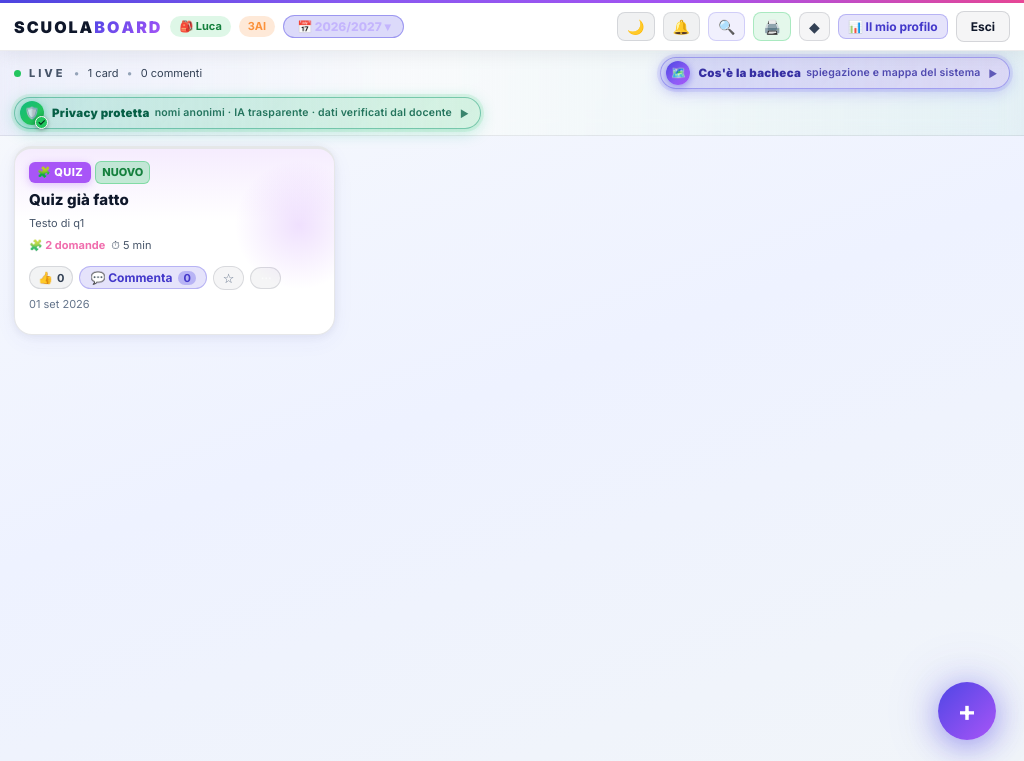
Test: Quiz interattivo (studente) › al refresh (riapertura card) lo studente vede il quiz già completato, non riparte da zero
This screenshot has width=1024, height=761.
Click the text "Quiz già fatto" at (79, 199), box [29,190,129,208]
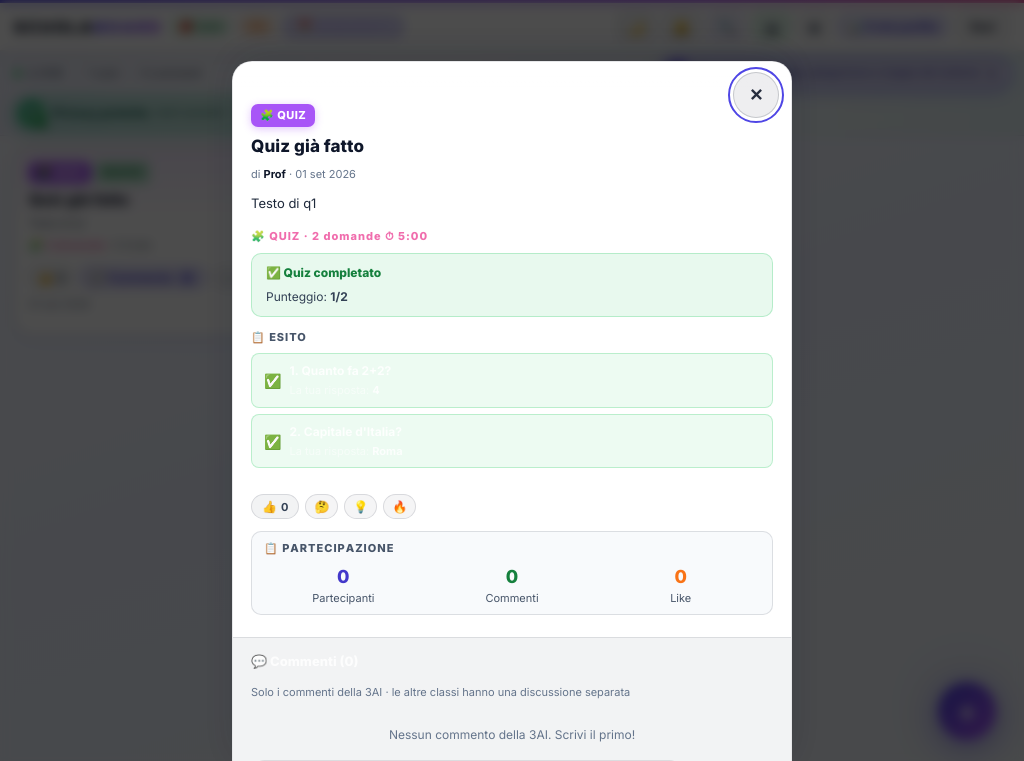
Now the text "✅ Quiz completato" is shown, box [266,265,381,280]
Now the text "1/2" is shown, box [330,289,348,304]
